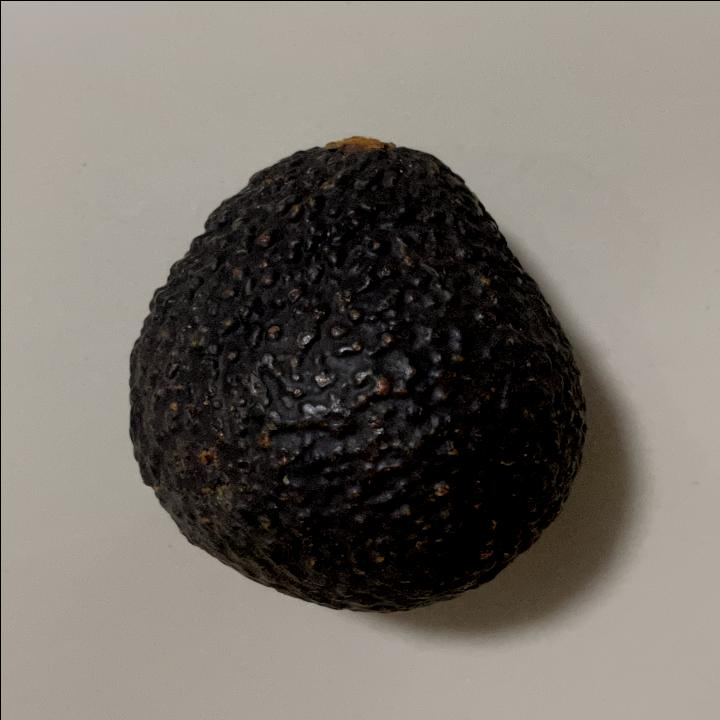Level2: (118, 123, 596, 621)
